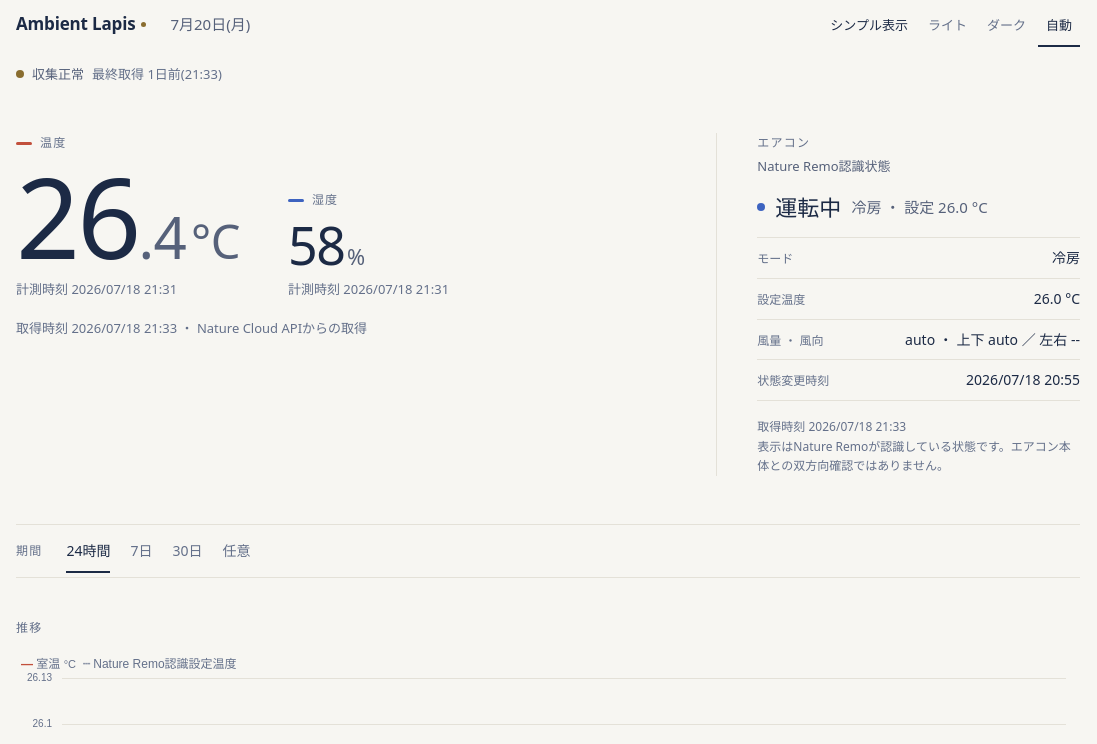
Dashboard period selection › refetches history when switching presets and shows custom date fields
This screenshot has width=1097, height=744.
Click the radio button labelled "7日": coordinates (141, 551) x1=130 y1=529 x2=152 y2=573
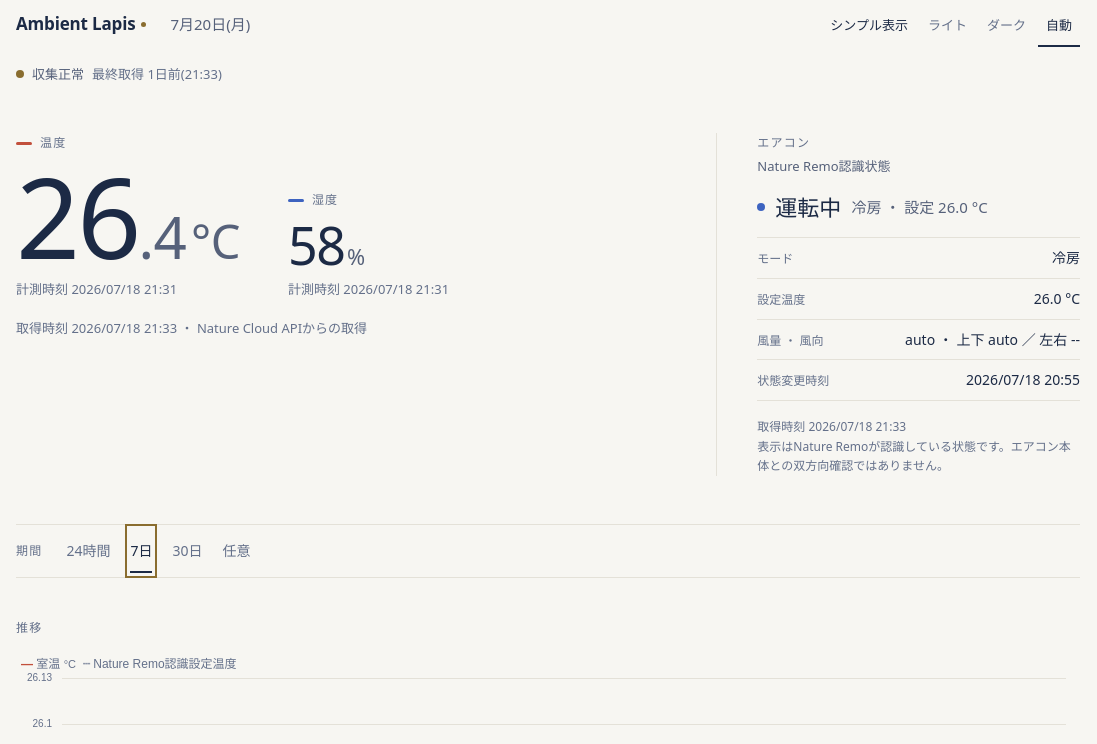
Click the radio button labelled "任意": coordinates (236, 551) x1=222 y1=529 x2=250 y2=573
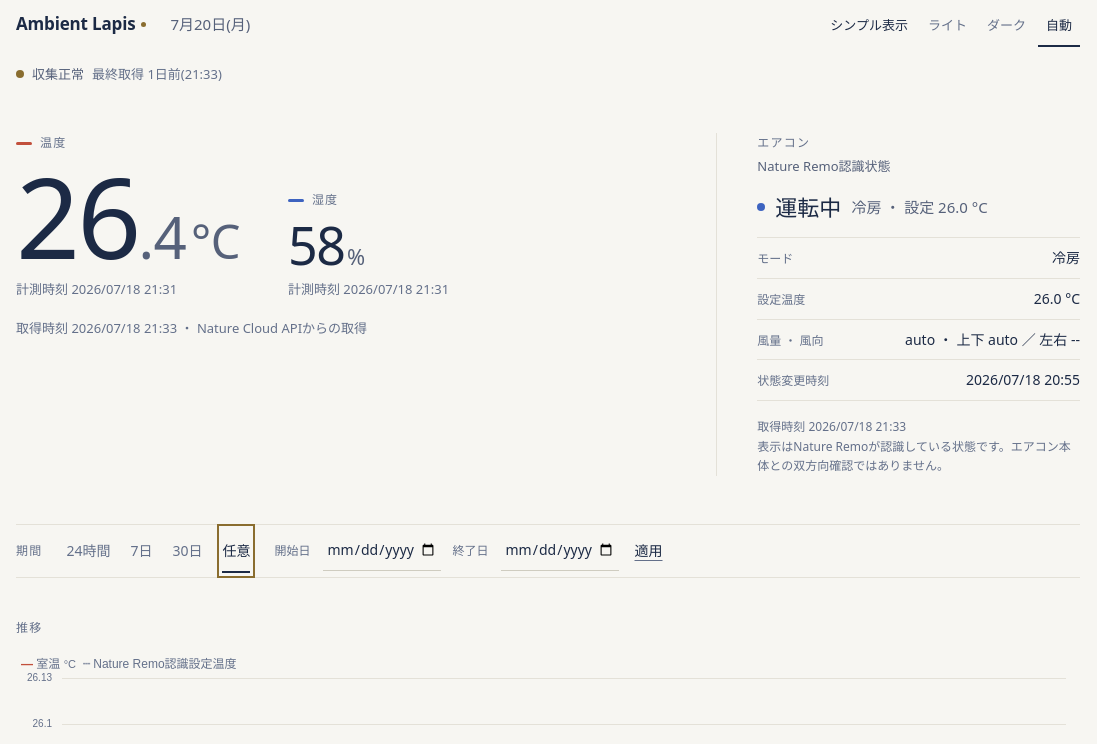
Now the date field labelled "開始日" is shown, box x1=322 y1=531 x2=440 y2=571
Now the date field labelled "終了日" is shown, box x1=500 y1=531 x2=618 y2=571
